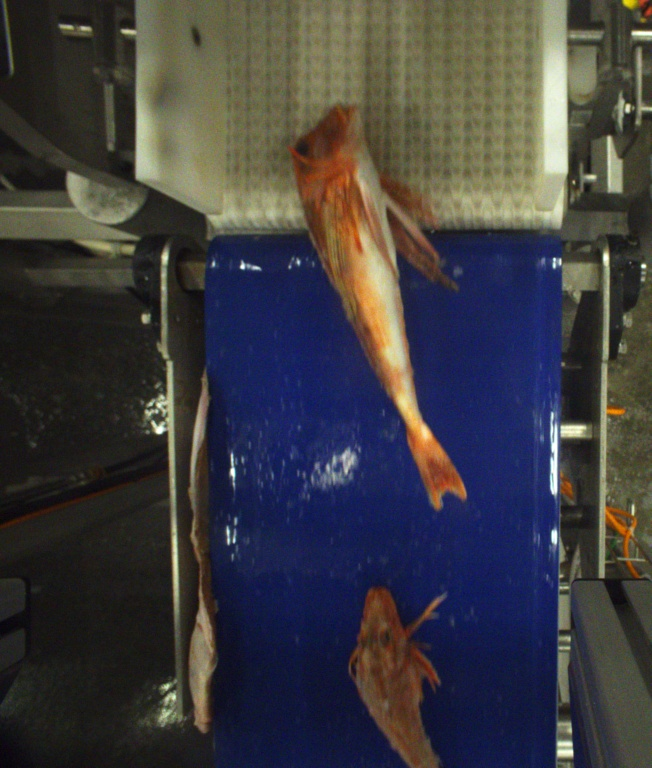GUU: (285, 99, 470, 510)
